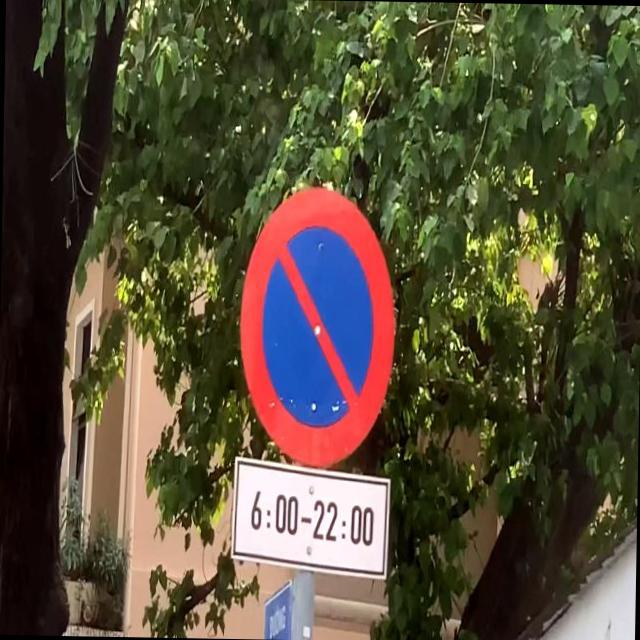P-131a: (234, 183, 401, 470)
